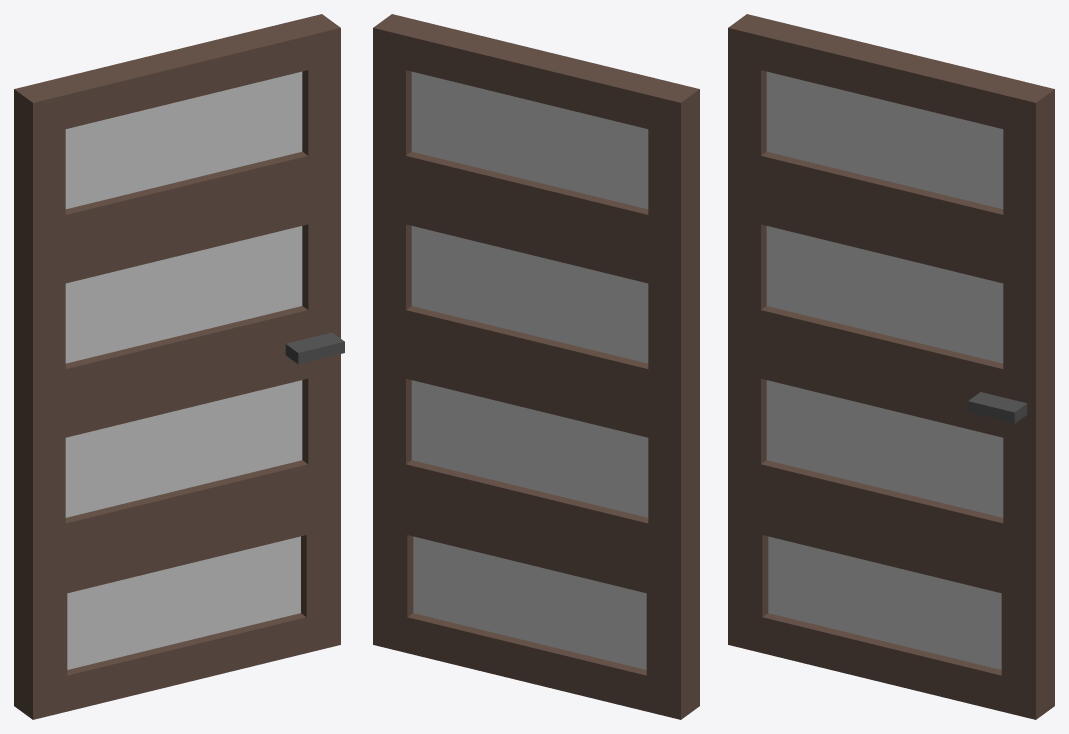
The model's file is MainDoor.fbx.
The picture shows the model from 3 angles, left to right: view 1: azimuth 30°, elevation 25°; view 2: azimuth 150°, elevation 25°; view 3: azimuth 330°, elevation 25°; orthographic projection.
Visible parts, largest first — view 1: Puerta Entrada; view 2: Puerta Entrada; view 3: Puerta Entrada.
Part boxes in pixels (left/top/right/bottom): Puerta Entrada: left=14, top=14, right=344, bottom=719; Puerta Entrada: left=373, top=14, right=699, bottom=719; Puerta Entrada: left=728, top=14, right=1054, bottom=719.
Bounding box in the file's own units: 188 × 360 × 33.28.
